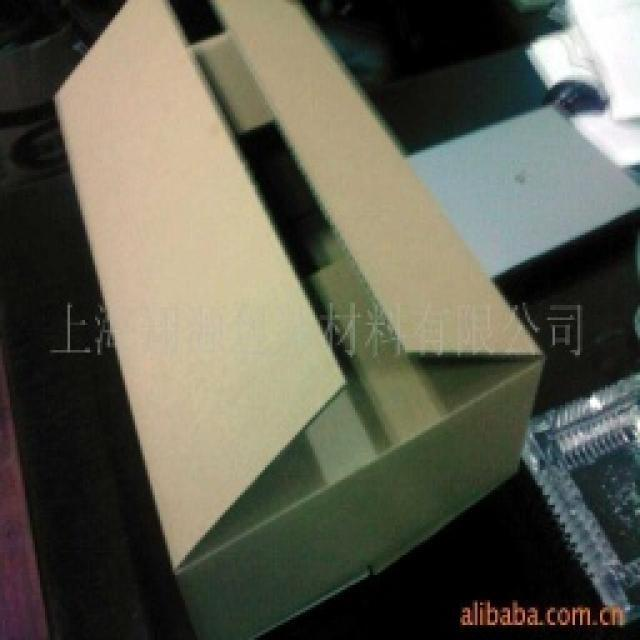box: (13, 0, 564, 640)
